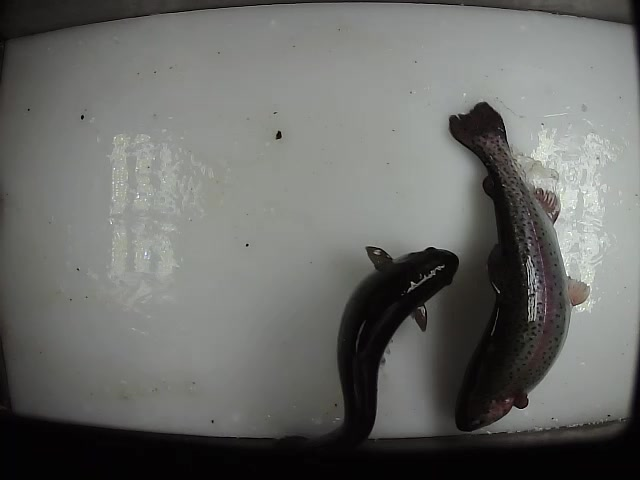fish: (448, 99, 593, 434), (274, 244, 460, 449)
